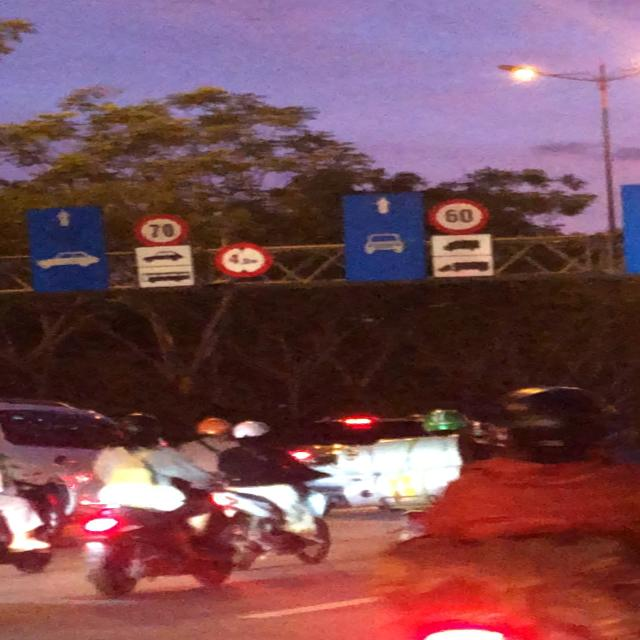Bien bao han che chieu cao: (212, 237, 274, 281)
Bien bao toc do toi da cho phep: (421, 196, 496, 238), (128, 211, 194, 249)
